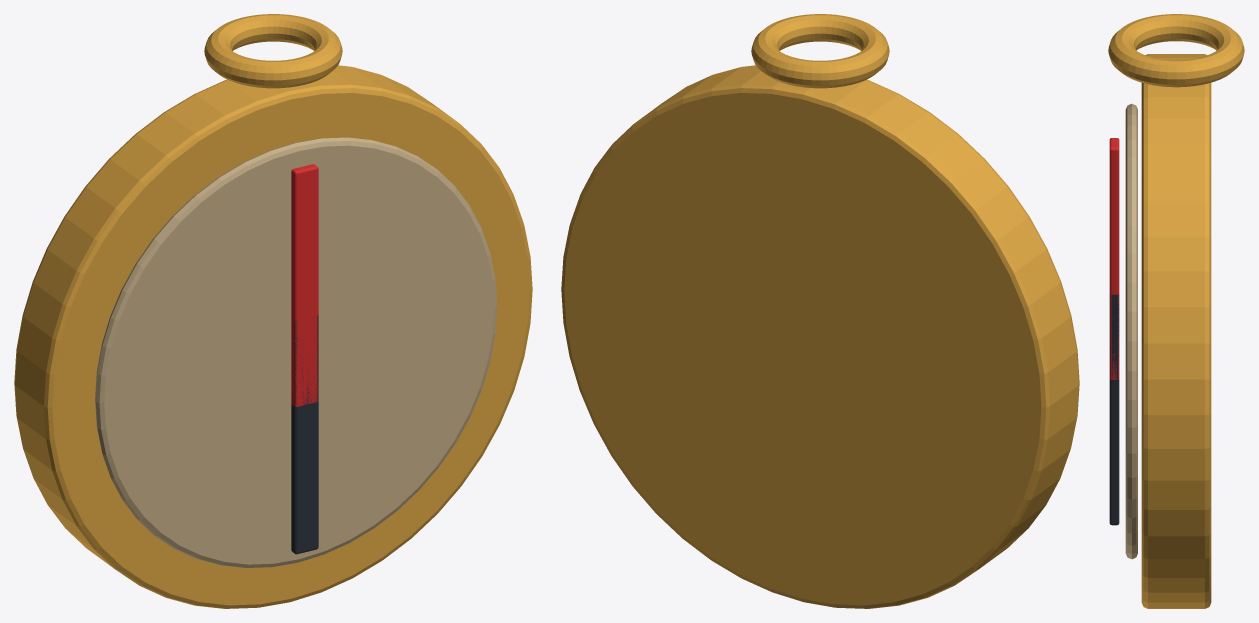
Rendered from boussole-ancienne.glb.
The picture shows the model from 3 angles, left to right: view 1: azimuth 30°, elevation 25°; view 2: azimuth 150°, elevation 25°; view 3: azimuth 270°, elevation 25°; orthographic projection.
Parts seen in each view (by area): view 1: Cadran, Boitier, Anneau, Aiguille N, Aiguille S; view 2: Boitier, Anneau; view 3: Boitier, Anneau, Cadran, Aiguille S, Aiguille N.
Part boxes in pixels (<box>): Cadran: <box>95,137,497,567</box>; Boitier: <box>14,65,532,608</box>; Anneau: <box>204,14,342,88</box>; Aiguille N: <box>291,164,318,406</box>; Aiguille S: <box>291,315,318,554</box>; Boitier: <box>561,65,1079,608</box>; Anneau: <box>751,14,889,88</box>; Boitier: <box>1141,54,1211,608</box>; Anneau: <box>1108,14,1244,87</box>; Cadran: <box>1125,103,1137,559</box>; Aiguille S: <box>1109,294,1119,525</box>; Aiguille N: <box>1109,138,1119,379</box>.
Bounding box in the file's own units: 2.24 × 2.43 × 0.55.
